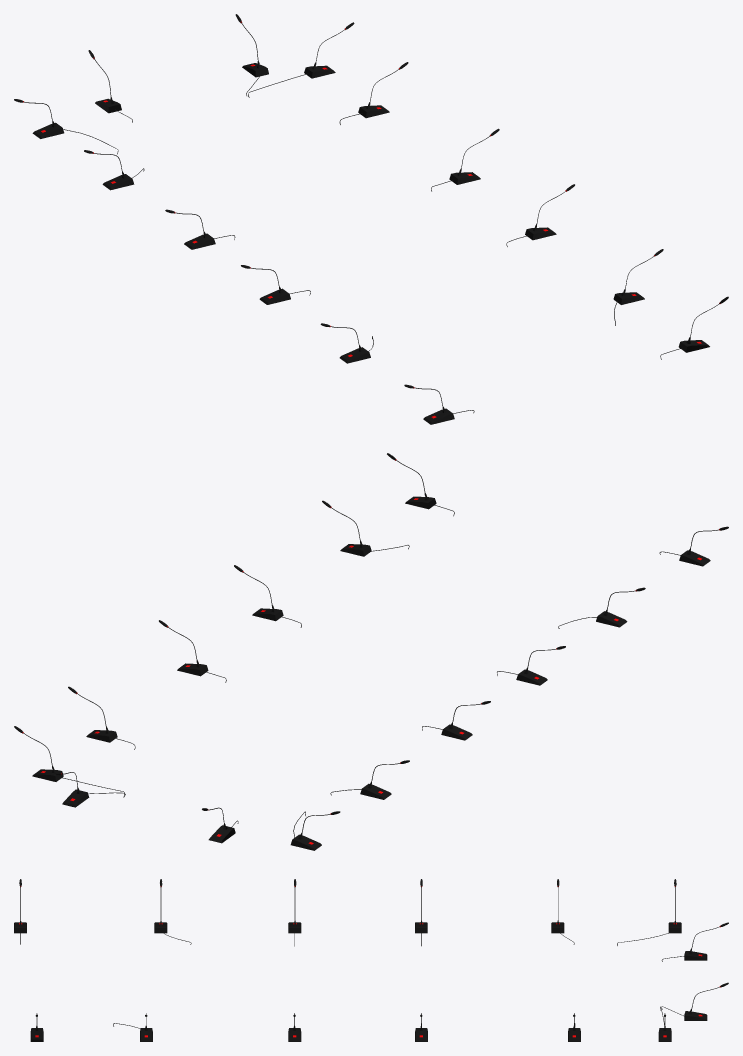
Rendered from CR06_Micro Phones.FBX.
The picture shows the model from 3 angles, top to bottom: view 1: azimuth 30°, elevation 25°; view 2: azimuth 150°, elevation 25°; view 3: azimuth 270°, elevation 25°; orthographic projection. The views are drawn at different scales.
Visible parts, largest first — view 1: CR06_Micro Phones; view 2: CR06_Micro Phones; view 3: CR06_Micro Phones.
Part boxes in pixels (x1=…): CR06_Micro Phones: x1=14, y1=14, x2=728, y2=424; CR06_Micro Phones: x1=14, y1=453, x2=728, y2=850; CR06_Micro Phones: x1=14, y1=879, x2=728, y2=1041.
Size of the model in its own units: 2695 by 366 by 5961.
